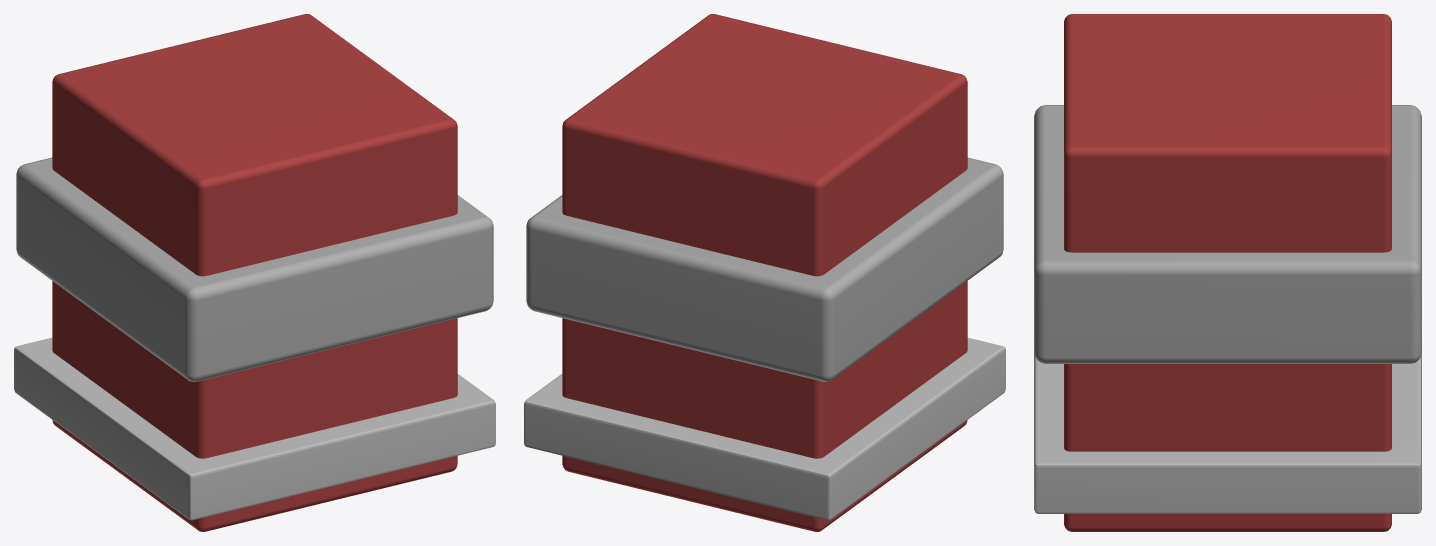
Rendered from Platform_BM.fbx.
3 views of the same model, side by side, from view 1: azimuth 30°, elevation 25°; view 2: azimuth 150°, elevation 25°; view 3: azimuth 270°, elevation 25° (orthographic). The views are drawn at different scales.
Visible parts, largest first — view 1: Platform_Base, Platform_Emissive_Top, Platform_Emissive_Bottom; view 2: Platform_Base, Platform_Emissive_Top, Platform_Emissive_Bottom; view 3: Platform_Base, Platform_Emissive_Top, Platform_Emissive_Bottom.
Boxes of the visible parts, box(x1,y1,x2,y2) form: Platform_Base: box(52, 14, 457, 531); Platform_Emissive_Top: box(16, 157, 493, 381); Platform_Emissive_Bottom: box(14, 337, 495, 520); Platform_Base: box(562, 14, 967, 531); Platform_Emissive_Top: box(526, 157, 1003, 381); Platform_Emissive_Bottom: box(524, 337, 1005, 520); Platform_Base: box(1064, 14, 1391, 531); Platform_Emissive_Top: box(1034, 105, 1421, 363); Platform_Emissive_Bottom: box(1034, 353, 1421, 513).
Size of the model in its own units: 137 by 150 by 137.
